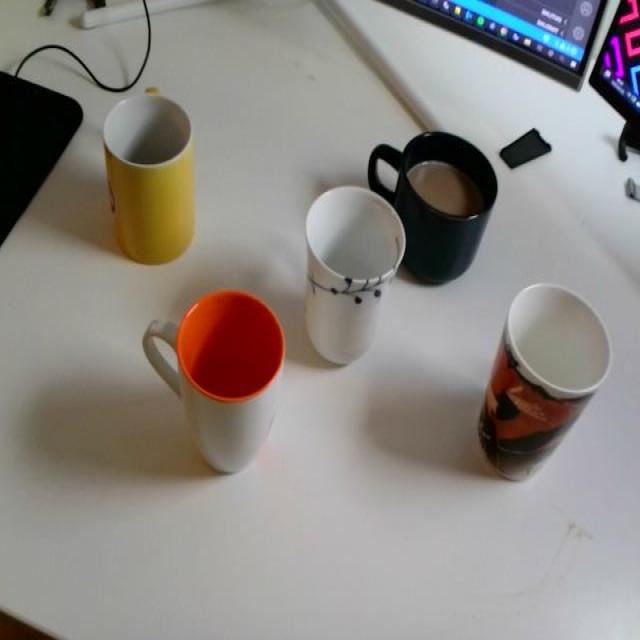cup: (468, 262, 620, 505), (121, 294, 298, 498), (297, 165, 415, 377), (368, 120, 503, 302), (88, 70, 204, 278)
